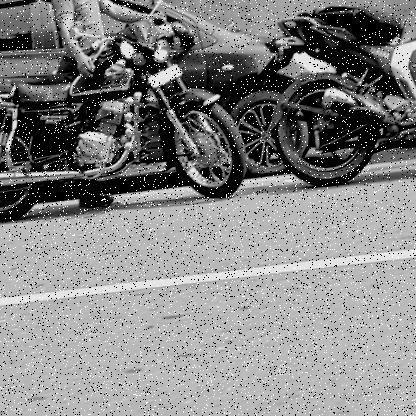motorcycle: (0, 0, 265, 229), (252, 0, 416, 198)
